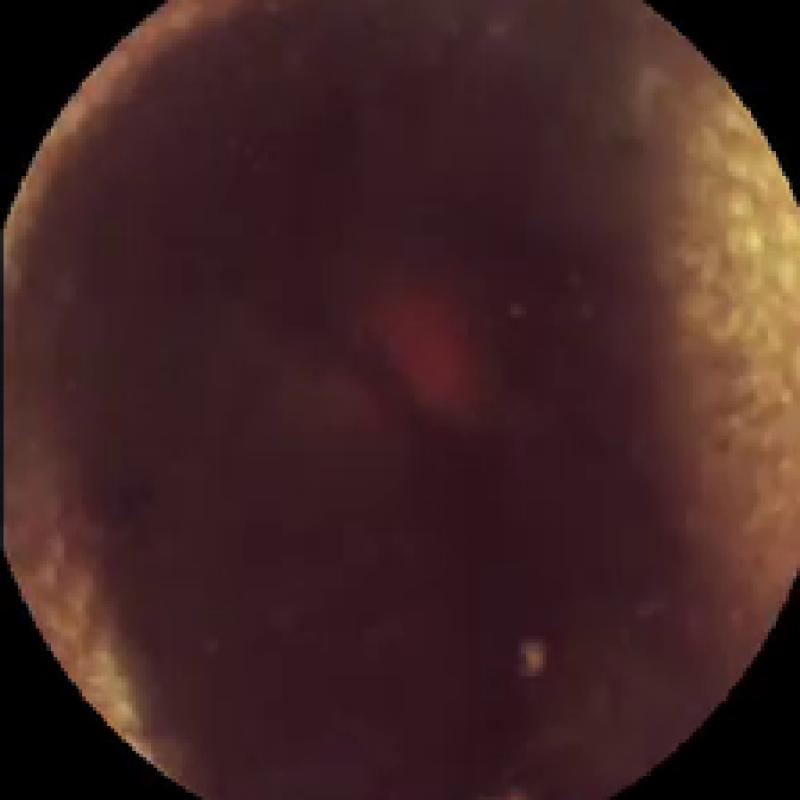bleeding: (357, 293, 497, 418)
